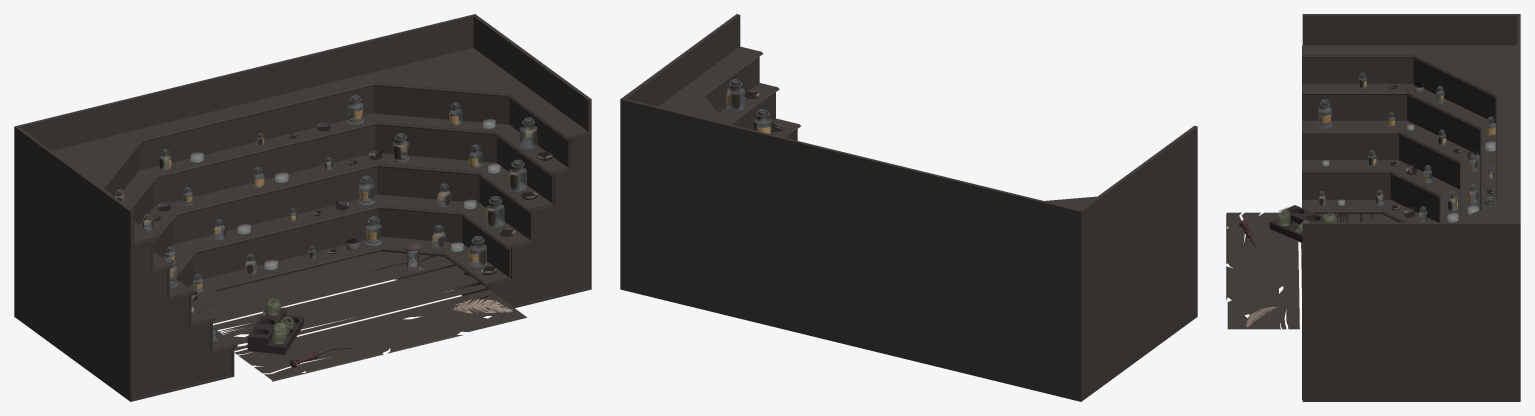
Rendered from table_compressed.glb.
3 renders of one model, left to right at view 1: azimuth 30°, elevation 25°; view 2: azimuth 150°, elevation 25°; view 3: azimuth 270°, elevation 25°, orthographic. The views are drawn at different scales.
Visible parts, largest first — view 1: Object_18.001, Object_30.001, Object_10, Object_28.001, Object_27.001, Object_23.001, Object_78, Object_64; view 2: Object_18.001, Object_30.001; view 3: Object_18.001, Object_30.001, Object_10, Object_28.001, Object_78, Object_23.001.
Part boxes in pixels (left/top/right/bottom): Object_18.001: left=14, top=14, right=591, bottom=401; Object_30.001: left=115, top=95, right=537, bottom=341; Object_10: left=247, top=306, right=303, bottom=354; Object_28.001: left=190, top=119, right=500, bottom=312; Object_27.001: left=151, top=133, right=552, bottom=275; Object_23.001: left=158, top=120, right=381, bottom=300; Object_78: left=262, top=299, right=294, bottom=343; Object_64: left=452, top=299, right=512, bottom=313; Object_18.001: left=620, top=14, right=1197, bottom=401; Object_30.001: left=726, top=79, right=772, bottom=134; Object_18.001: left=1226, top=14, right=1520, bottom=401; Object_30.001: left=1317, top=72, right=1495, bottom=222; Object_10: left=1269, top=205, right=1336, bottom=242; Object_28.001: left=1322, top=124, right=1495, bottom=222; Object_78: left=1277, top=207, right=1335, bottom=232; Object_23.001: left=1404, top=83, right=1490, bottom=217.
Size of the model in its own units: 5.43 by 2.14 by 3.21.
Materials: 13 (4 with a texture image).
